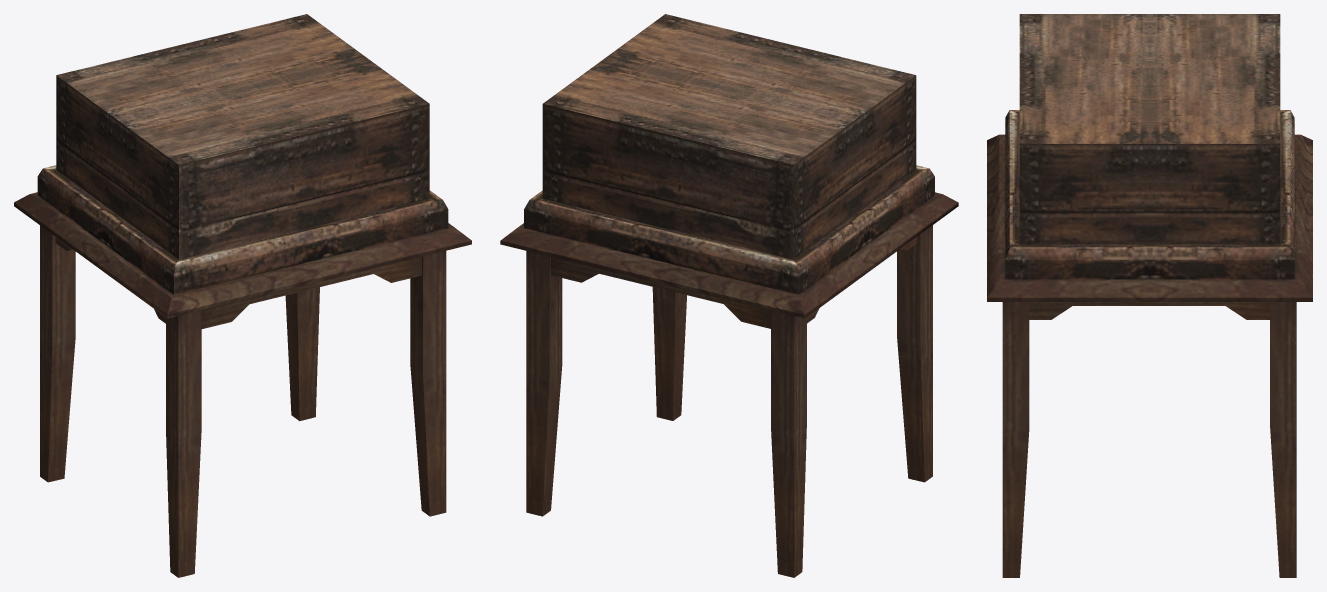
The picture shows the model from 3 angles, left to right: view 1: azimuth 30°, elevation 25°; view 2: azimuth 150°, elevation 25°; view 3: azimuth 270°, elevation 25°; orthographic projection. The views are drawn at different scales.
Visible parts, largest first — view 1: LV_Common_Object_A_Furniture03_SM_NWC; view 2: LV_Common_Object_A_Furniture03_SM_NWC; view 3: LV_Common_Object_A_Furniture03_SM_NWC.
Boxes of the visible parts, box(x1,y1,x2,y2) form: LV_Common_Object_A_Furniture03_SM_NWC: box(14, 14, 471, 577); LV_Common_Object_A_Furniture03_SM_NWC: box(500, 14, 958, 577); LV_Common_Object_A_Furniture03_SM_NWC: box(987, 14, 1312, 577).
Size of the model in its own units: 0.1208 by 0.1536 by 0.1055.
1 material, 1 textured.
